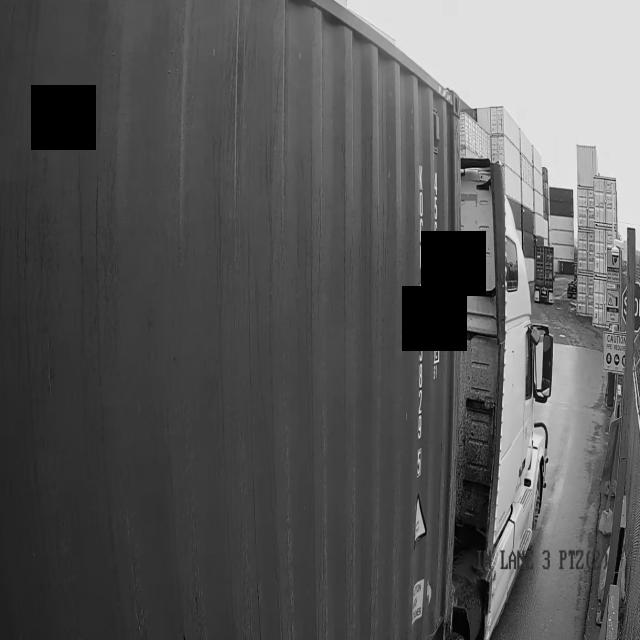container_side_no: (415, 134, 427, 487)
truck_with_container: (0, 0, 558, 640)
